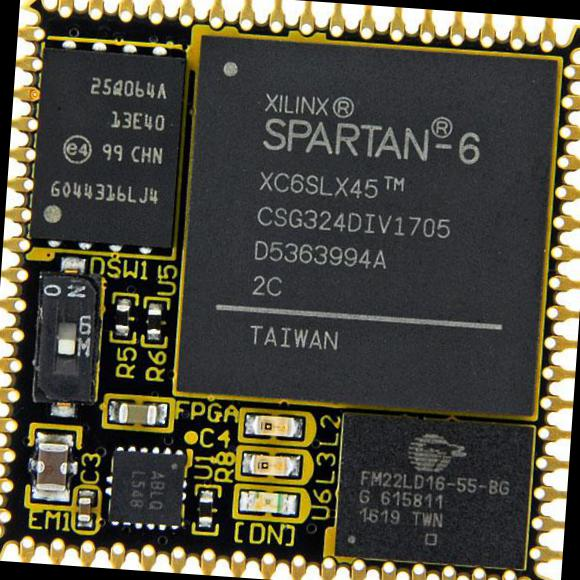Capacitor: (102, 395, 173, 430), (72, 484, 97, 534)
Connector: (53, 0, 563, 57), (525, 56, 579, 568), (0, 19, 48, 531), (11, 532, 525, 579)
EM: (24, 424, 78, 510)
IC: (174, 35, 556, 418), (29, 36, 185, 258), (332, 411, 536, 567), (106, 444, 184, 529)
Led: (234, 448, 303, 481), (240, 407, 306, 438), (236, 487, 301, 515)
Resistor Network: (139, 296, 168, 348), (190, 483, 218, 535), (108, 291, 134, 342)
Switch: (28, 272, 102, 400)
